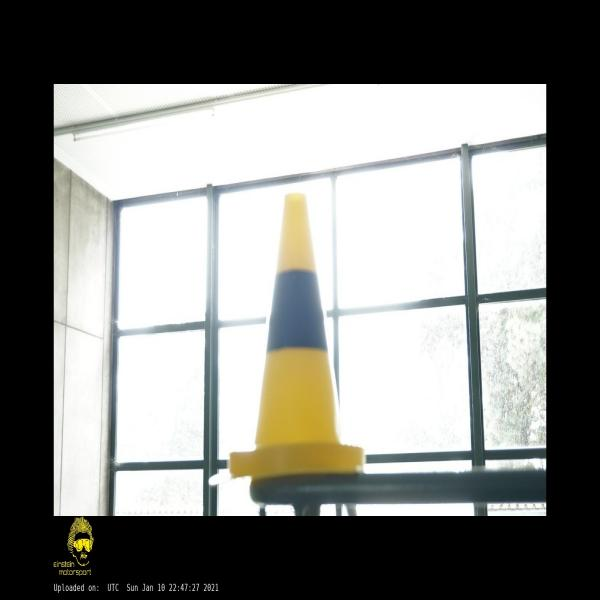yellow_cone: (226, 193, 364, 479)
